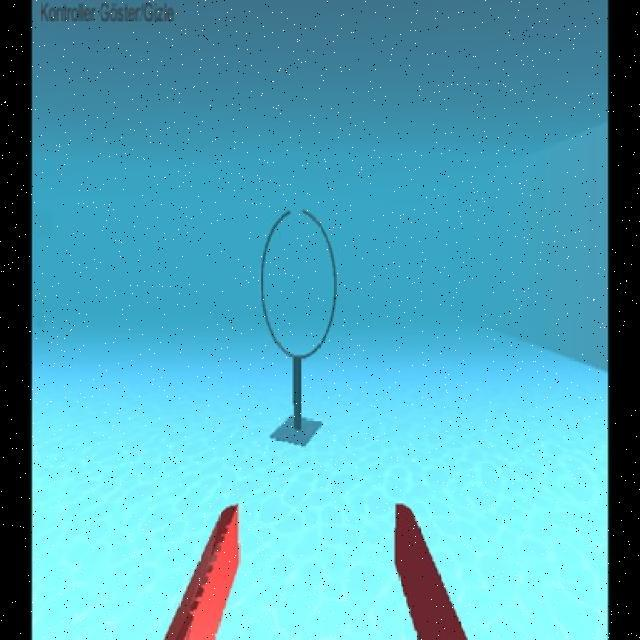Circle: (257, 203, 339, 365)
